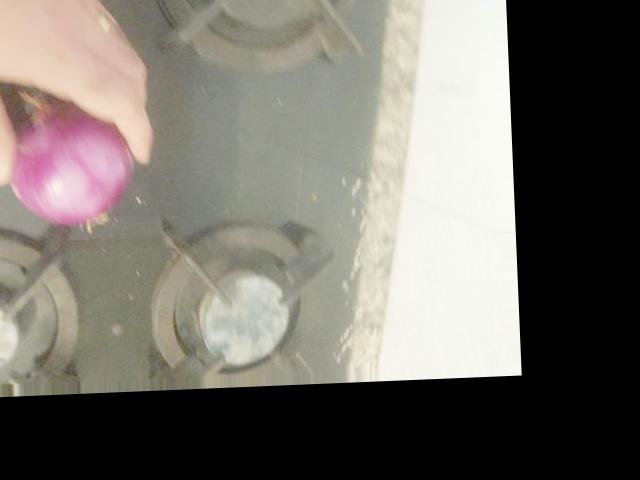onion: (8, 108, 135, 228)
